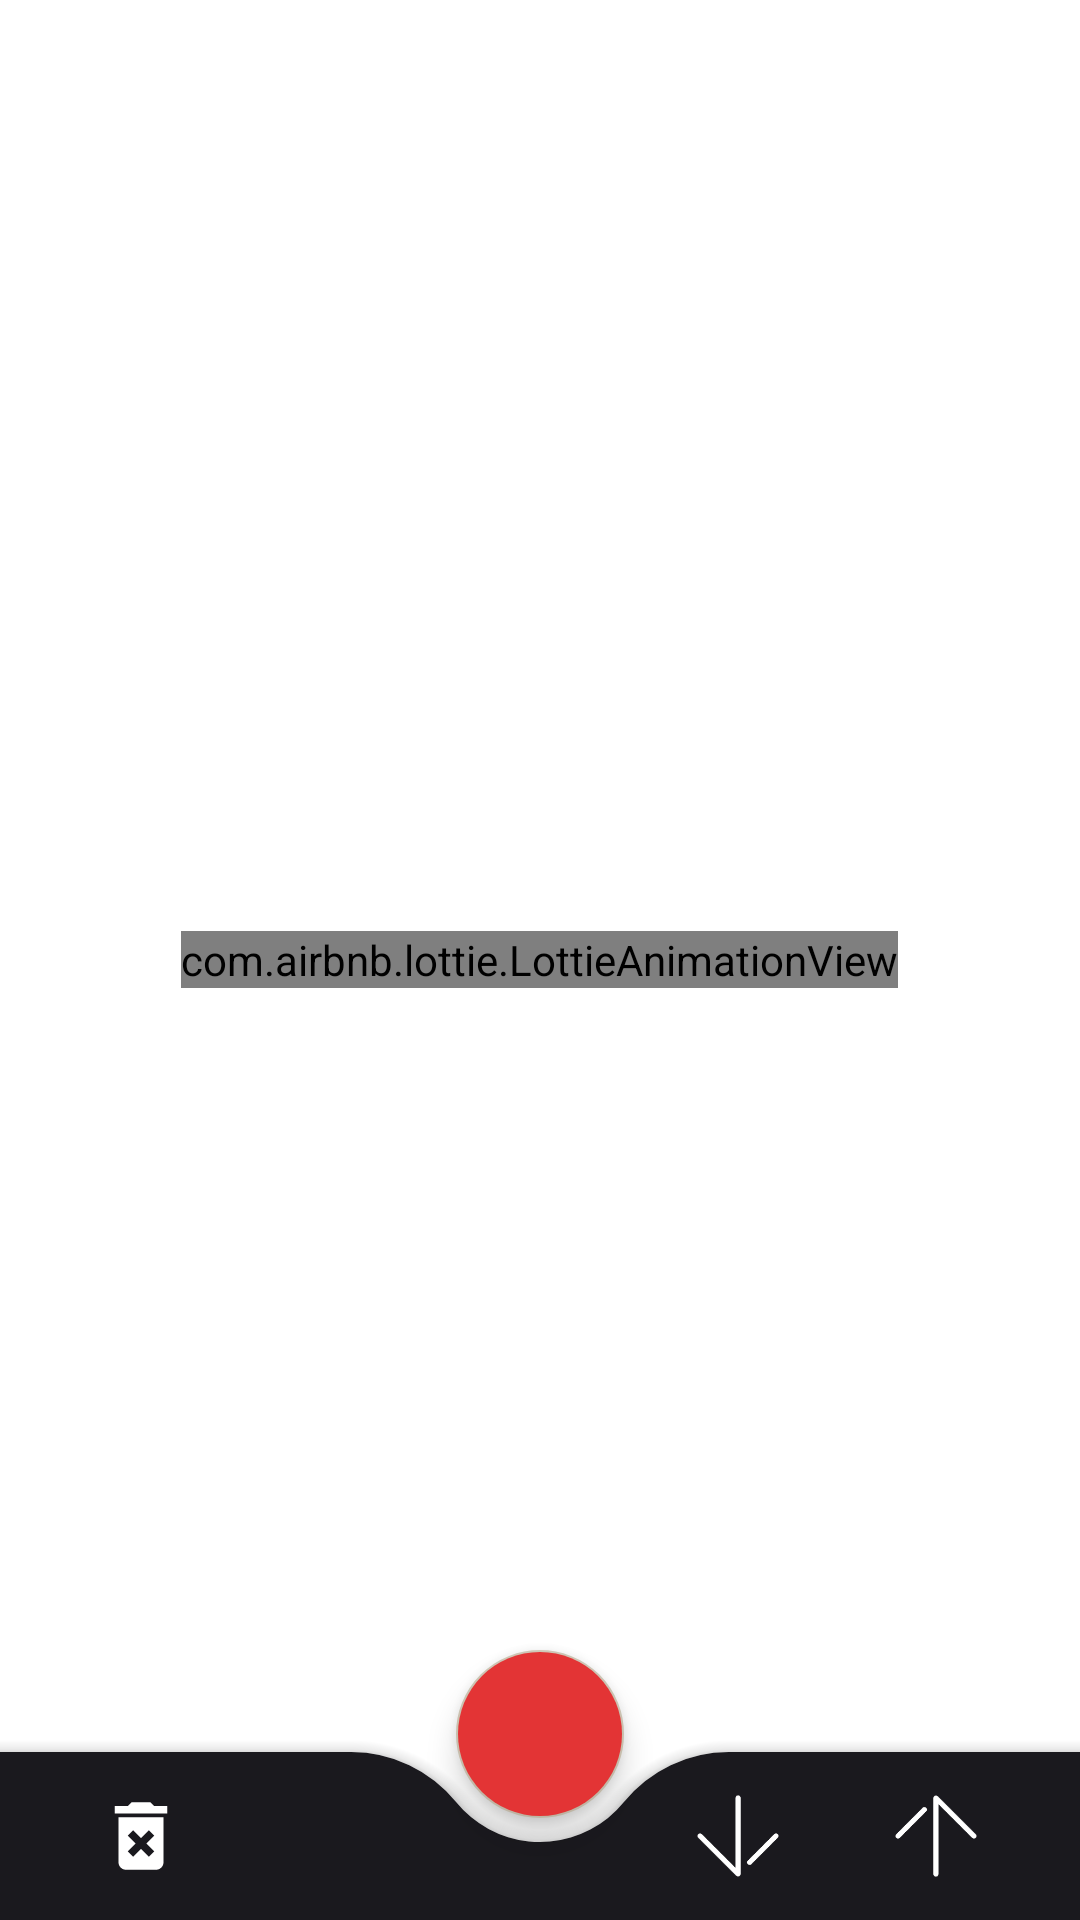

Named icons in this screenshot (1080×1920) and their centers, (x=x, y=y):
back bottom: (x=738, y=1836)
back top: (x=936, y=1836)
clear: (x=141, y=1836)
